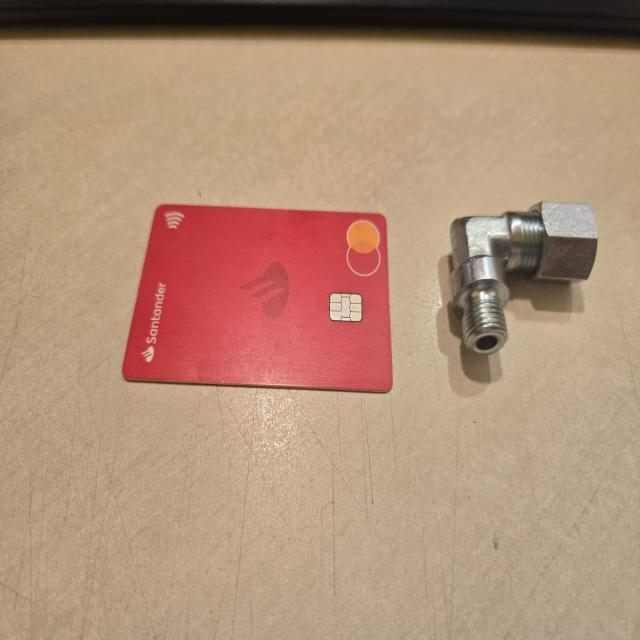cartao: (122, 204, 397, 394)
rosca_externa: (447, 202, 599, 354)
